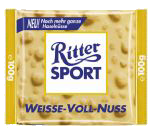grozi_67: (3, 8, 147, 126)
